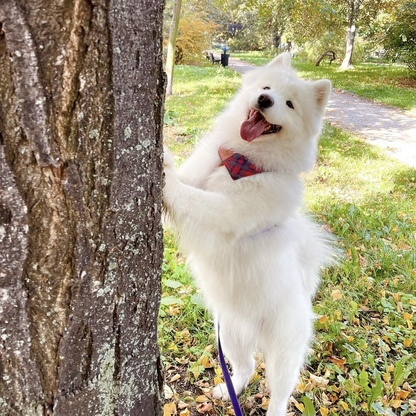samoyed: (158, 42, 347, 416)
